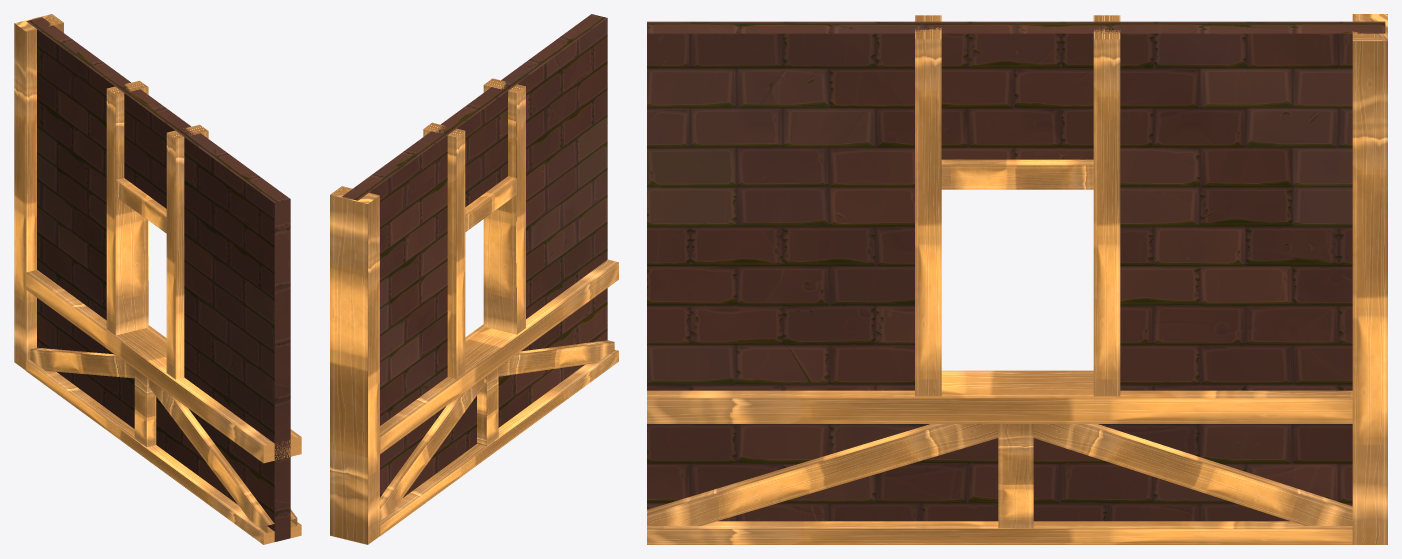
File: SM_Window_Wall_05.fbx
3 renders of one model, left to right at view 1: azimuth 30°, elevation 25°; view 2: azimuth 150°, elevation 25°; view 3: azimuth 270°, elevation 25°, orthographic. The views are drawn at different scales.
Visible parts, largest first — view 1: SM_Window_Wall_05; view 2: SM_Window_Wall_05; view 3: SM_Window_Wall_05.
Boxes of the visible parts, x1,y1,x2,y2 form: SM_Window_Wall_05: (14,14,301,544); SM_Window_Wall_05: (330,14,618,544); SM_Window_Wall_05: (647,14,1387,544).
Bounding box in the file's own units: 35.24 × 300 × 400.
